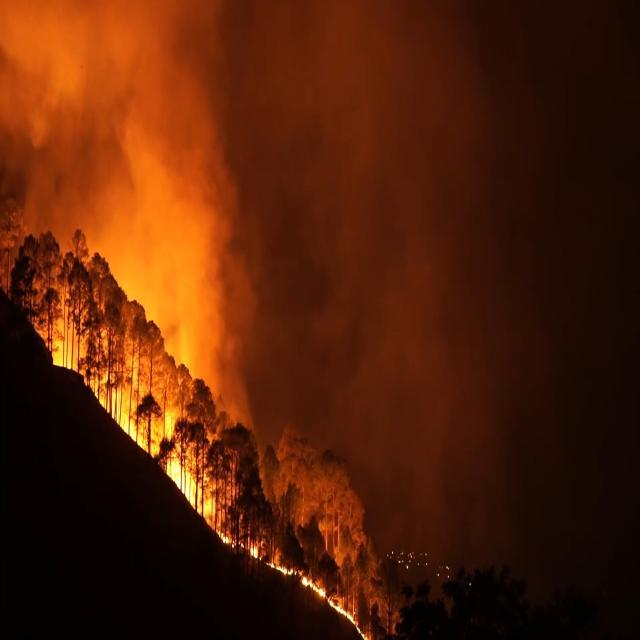Fire: (51, 323, 412, 640)
Smoke: (0, 1, 300, 357)
